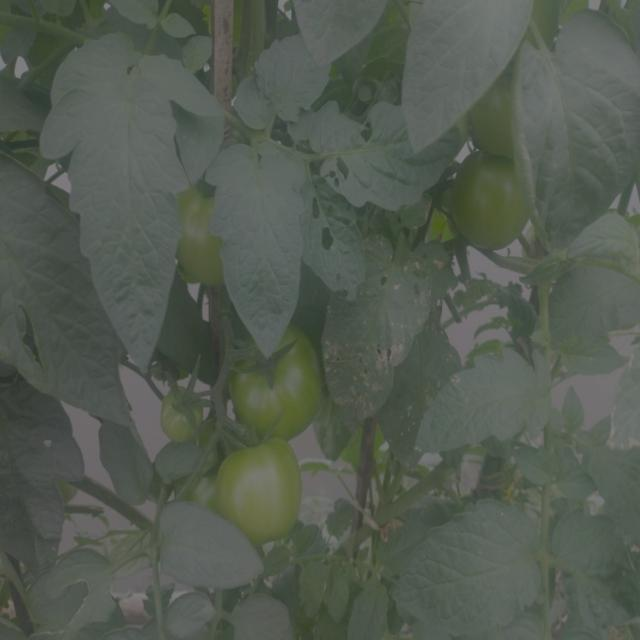tomato: (227, 319, 320, 437), (219, 441, 306, 537), (450, 155, 533, 250), (174, 176, 239, 289), (464, 69, 530, 154), (157, 385, 208, 440), (181, 473, 215, 512)
